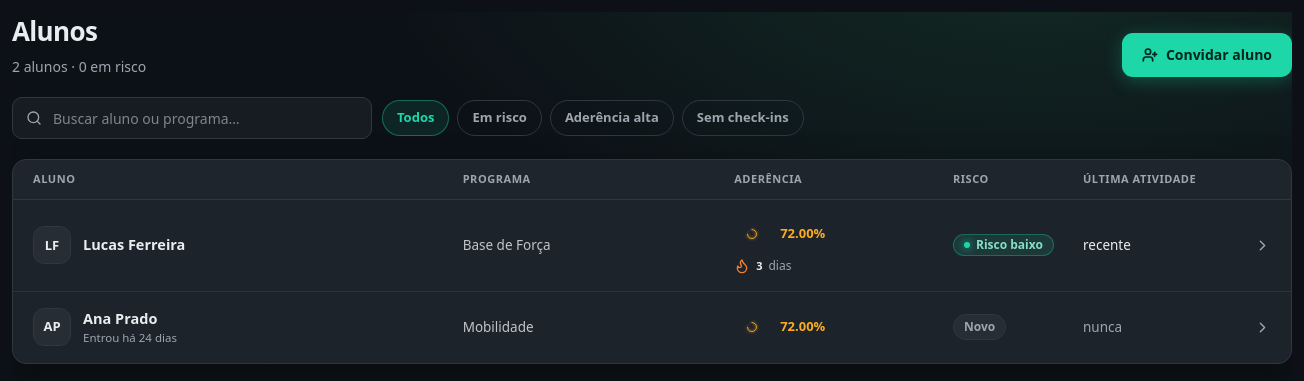
Test case: StudentsPage › filters students by search query
Check: the text "Ana Prado" is shown, box [83,308,157,328]
Type "Ana" into the search field labelled "Buscar aluno ou programa".
click(192, 118); type("Ana")  # box [12,97,372,139]
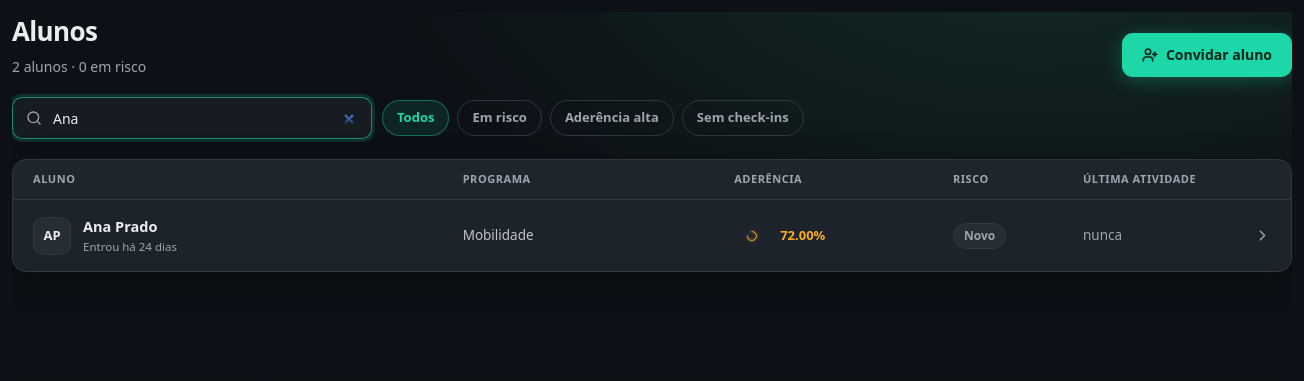
Check: the text "Ana Prado" is shown, box [83,216,157,236]
Check: the link "Lucas Ferreira" is gone
